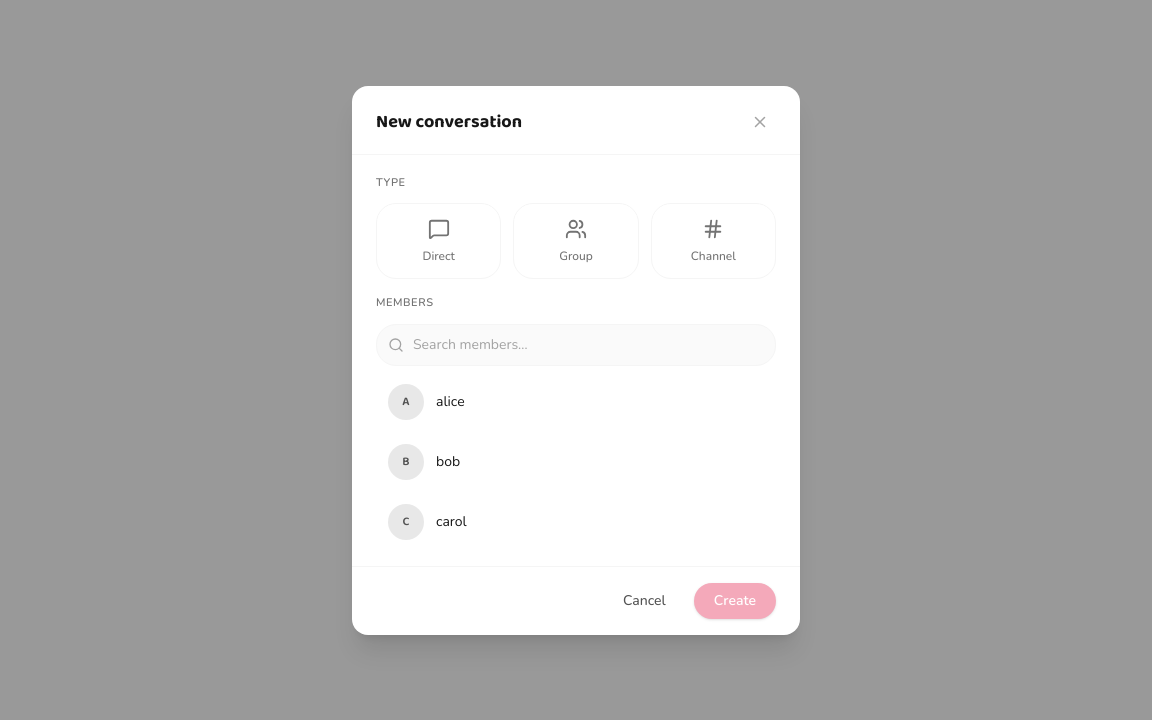
it: ConversationModalCreation › shows name input when Group is selected
Click the button "Group" at point(576, 241), box [513,203,639,279]
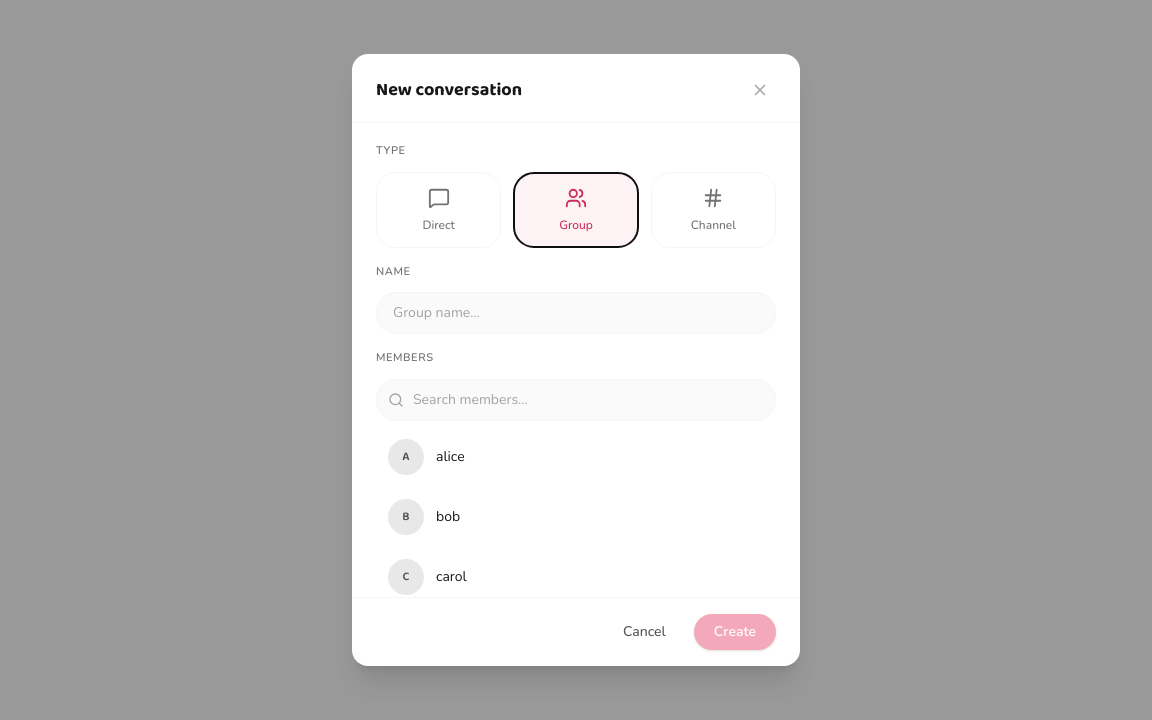
Expected: the field with placeholder "Group name…" is shown, [376,292,776,334]
